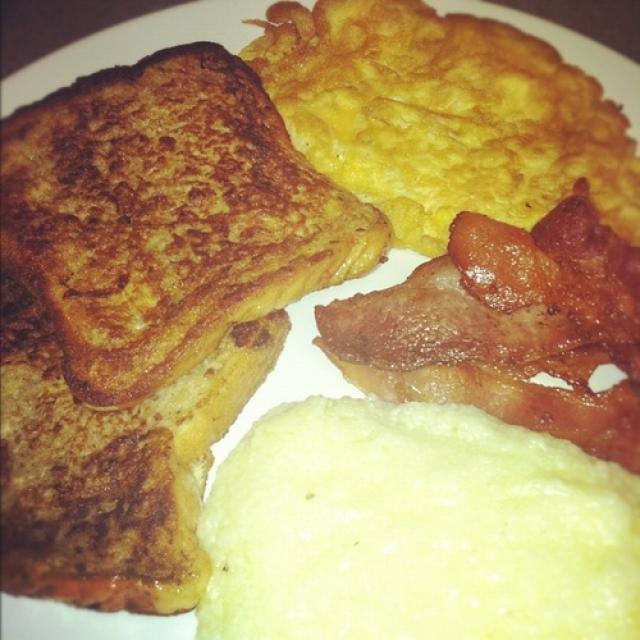面包点心: (8, 18, 612, 631)
